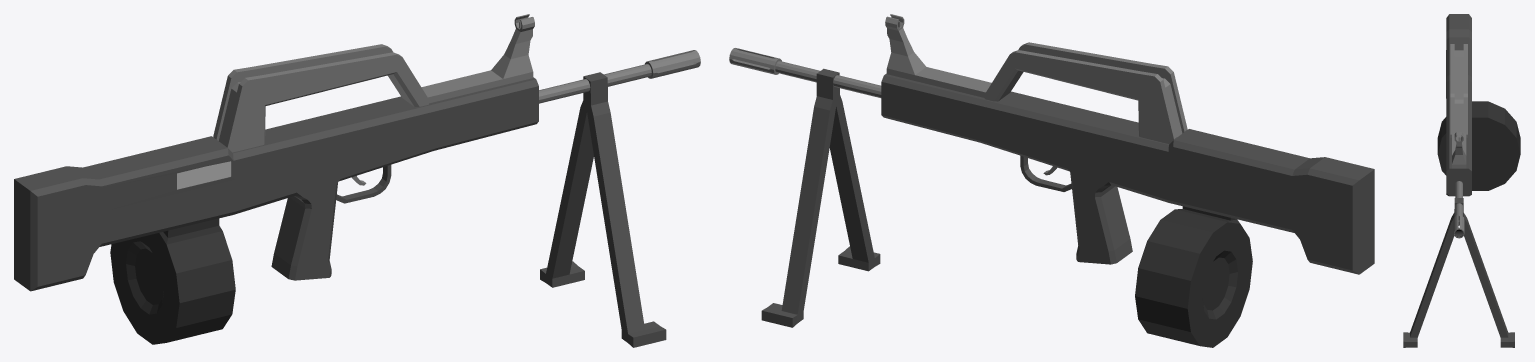
Rendered from QBB-95.fbx.
3 views of the same model, side by side, from view 1: azimuth 30°, elevation 25°; view 2: azimuth 150°, elevation 25°; view 3: azimuth 270°, elevation 25° (orthographic). The views are drawn at different scales.
Visible parts, largest first — view 1: Cube, Cube.002, Cylinder.001, Generic Tripod, Cylinder, Cube.001, Trigger; view 2: Cube, Cylinder.001, Cube.002, Generic Tripod, Cylinder, Trigger; view 3: Cylinder.001, Generic Tripod, Cube, Cube.002, Cylinder.
Boxes of the visible parts, <box> form: Cube: <box>14,77,538,291</box>; Cube.002: <box>213,14,534,152</box>; Cylinder.001: <box>110,218,235,344</box>; Generic Tripod: <box>540,72,666,347</box>; Cylinder: <box>539,50,700,103</box>; Cube.001: <box>177,161,231,189</box>; Trigger: <box>336,165,391,203</box>; Cube: <box>881,73,1374,274</box>; Cylinder.001: <box>1135,206,1252,347</box>; Cube.002: <box>885,14,1187,144</box>; Generic Tripod: <box>761,68,880,327</box>; Cylinder: <box>729,48,881,97</box>; Trigger: <box>1020,155,1071,191</box>; Cylinder.001: <box>1437,101,1520,190</box>; Generic Tripod: <box>1403,198,1514,347</box>; Cube: <box>1446,14,1471,196</box>; Cube.002: <box>1450,44,1467,168</box>; Cylinder: <box>1453,181,1464,238</box>.
Size of the model in its own units: 984 by 451 by 248.
